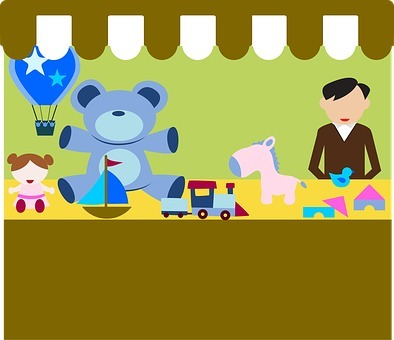bird: (325, 163, 357, 189)
boat: (73, 153, 137, 220)
horse: (223, 130, 310, 208)
person: (306, 74, 382, 179), (6, 146, 58, 216)
